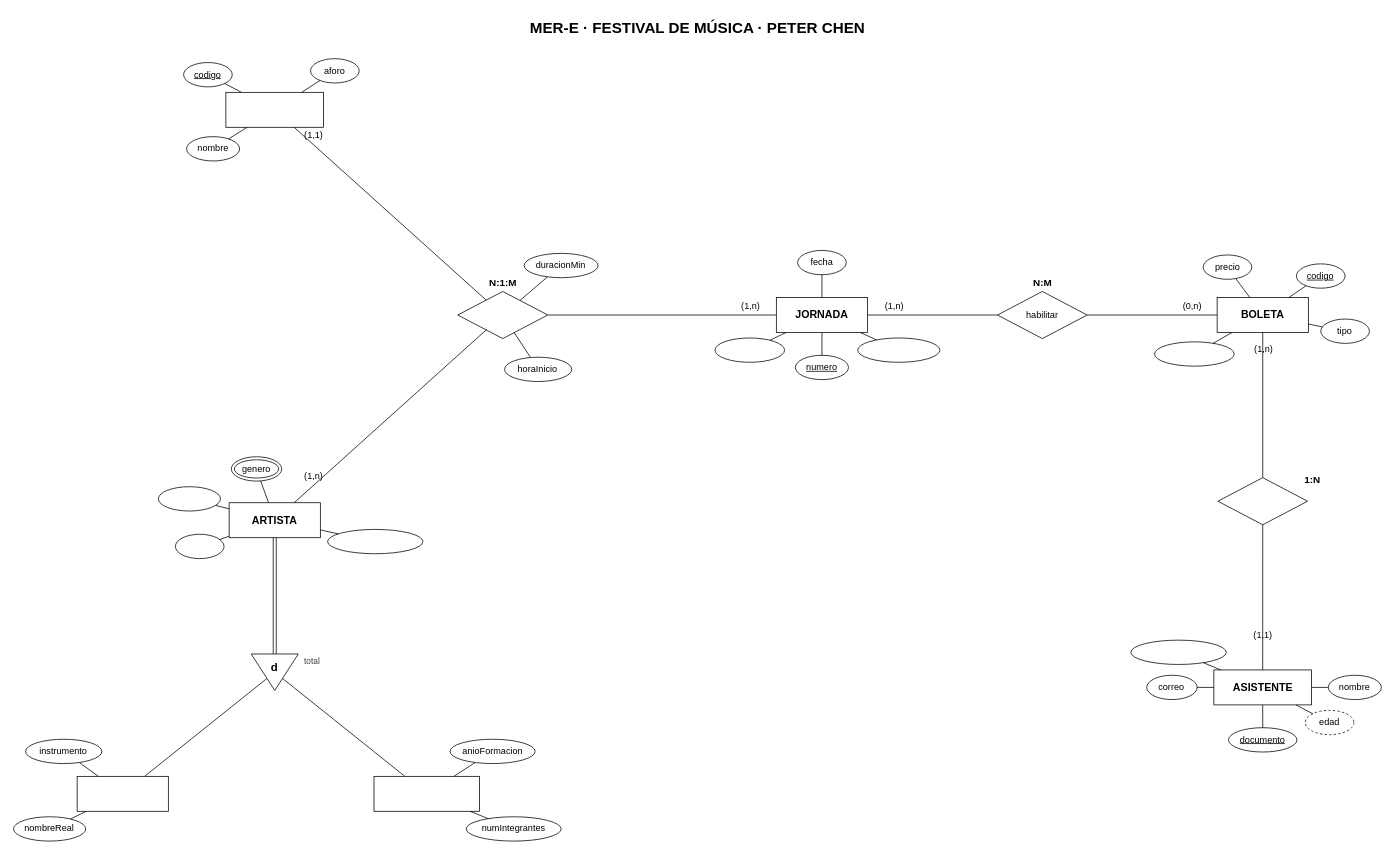
Image size: 1395x854. Some labels were removed from this diagram. The shapes that lost their labels are listed below. From the top down, each one's centre as x and y in pixels, then its label:
At (274,109): "ESCENARIO".
At (502,315): "presentar".
At (749,349): "horaCierre".
At (898,349): "horaApertura".
At (1194,353): "fechaCompra".
At (189,498): "idArtista".
At (1262,501): "comprar".
At (199,546): "pais".
At (375,541): "nombreArtistico".
At (1178,651): "fechaNacimiento".
At (122,793): "SOLISTA".
At (426,793): "AGRUPACION".
